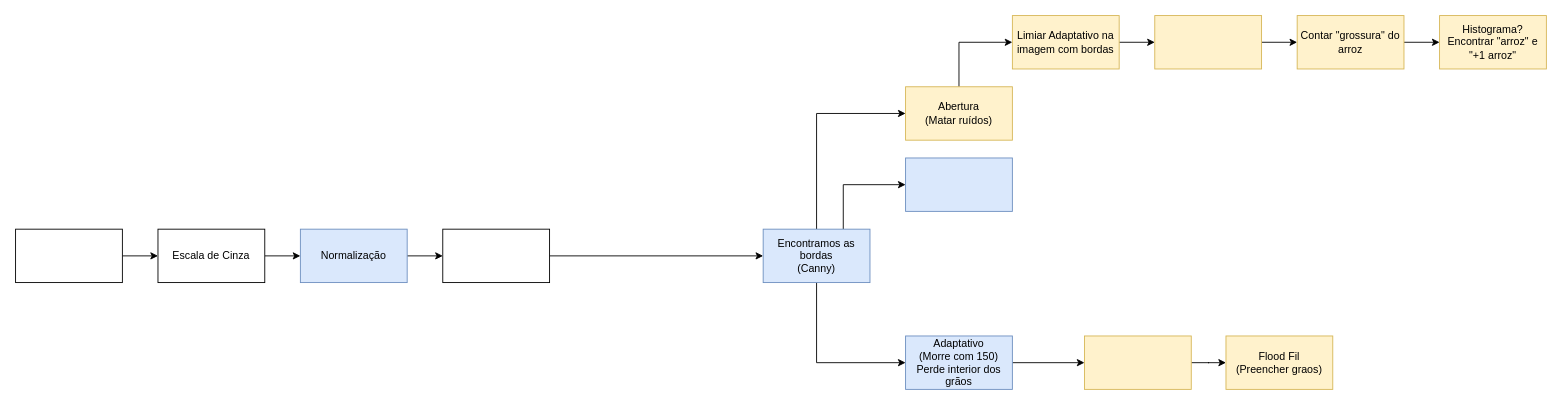
This 1562x405 diagram has some shape labels left out. Here are the shapes that lost their labels. From the top down, the centre of each, then its label:
point (1208, 42): Flood FIl na imagem com bordas
point (958, 184): Otsu (Morre com 60 e 205)
point (68, 255): Lê imagem
point (496, 255): GaussianBlur
point (1137, 362): Limpar ruídos
